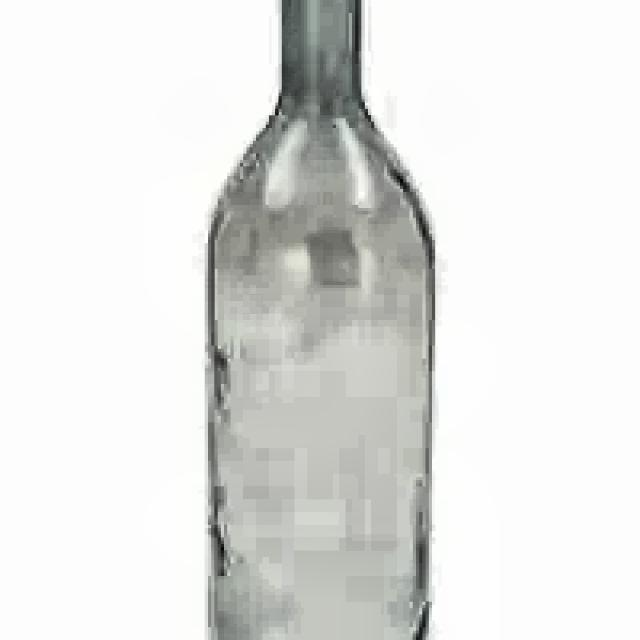glass: (197, 0, 439, 640)
